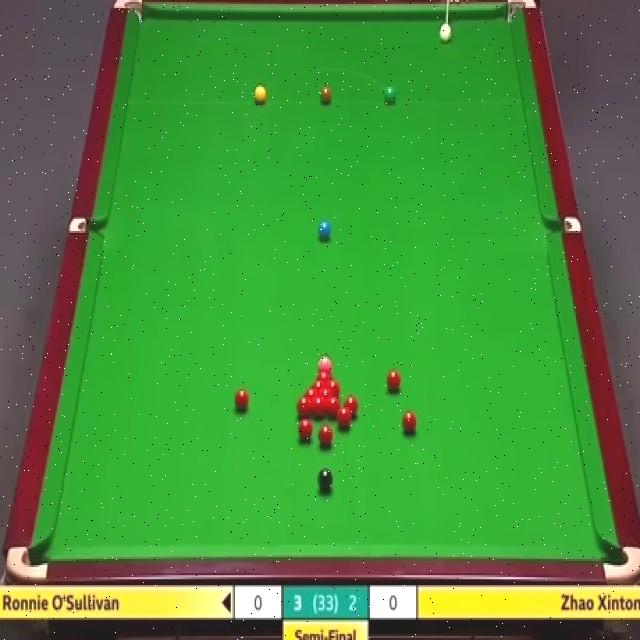black-ball: (318, 468, 334, 494)
blue-ball: (318, 221, 331, 240)
brown-ball: (319, 86, 332, 105)
green-ball: (384, 85, 396, 105)
pink-ball: (318, 354, 332, 367)
red-ball: (400, 409, 418, 437), (233, 388, 250, 414), (343, 395, 358, 419), (386, 370, 401, 394), (298, 418, 314, 440), (318, 425, 333, 448), (296, 395, 311, 418), (326, 396, 341, 419), (336, 408, 351, 430), (311, 395, 325, 417), (327, 378, 340, 395), (314, 368, 332, 378), (310, 379, 326, 388), (318, 388, 334, 396), (304, 388, 318, 397)
white-ball: (438, 21, 453, 46)
yellow-ball: (253, 86, 266, 104)
